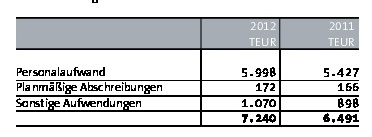table: (0, 0, 372, 137)
